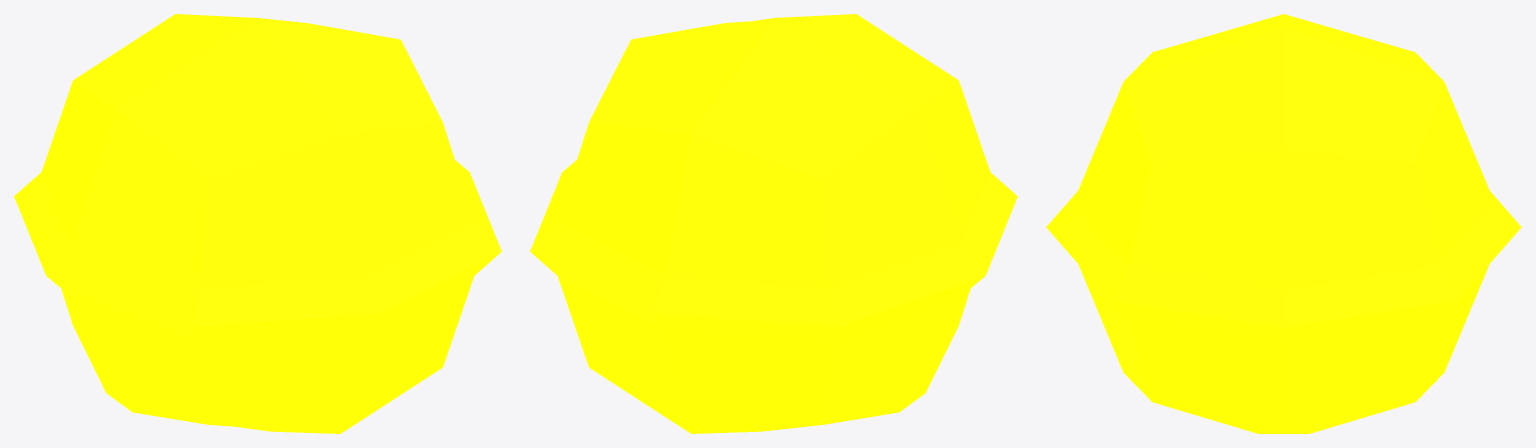
The model's file is jingle-bell-christmas.glb.
3 renders of one model, left to right at view 1: azimuth 30°, elevation 25°; view 2: azimuth 150°, elevation 25°; view 3: azimuth 270°, elevation 25°, orthographic. The views are drawn at different scales.
Visible parts, largest first — view 1: jingle_bell_christmas; view 2: jingle_bell_christmas; view 3: jingle_bell_christmas.
Part boxes in pixels (bbox=[...]): jingle_bell_christmas: bbox=[14, 14, 501, 433]; jingle_bell_christmas: bbox=[530, 14, 1017, 433]; jingle_bell_christmas: bbox=[1046, 14, 1521, 433].
Size of the model in its own units: 0.0461 by 0.042 by 0.0461.
1 material, 1 textured.
